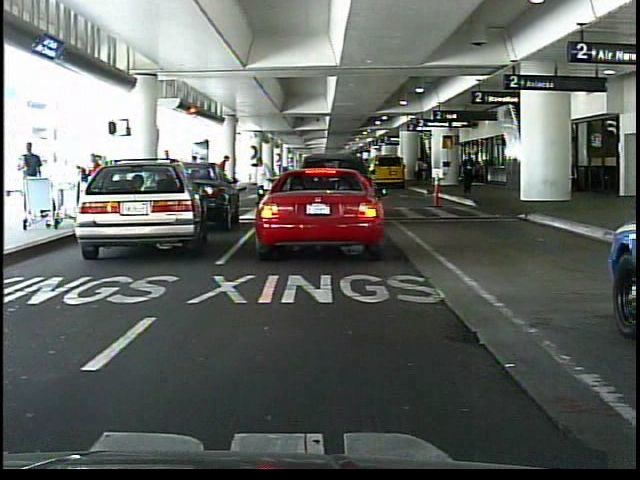person: (18, 138, 46, 225), (161, 144, 178, 223), (255, 154, 275, 205), (215, 154, 233, 207), (462, 155, 478, 197), (416, 155, 428, 189)
